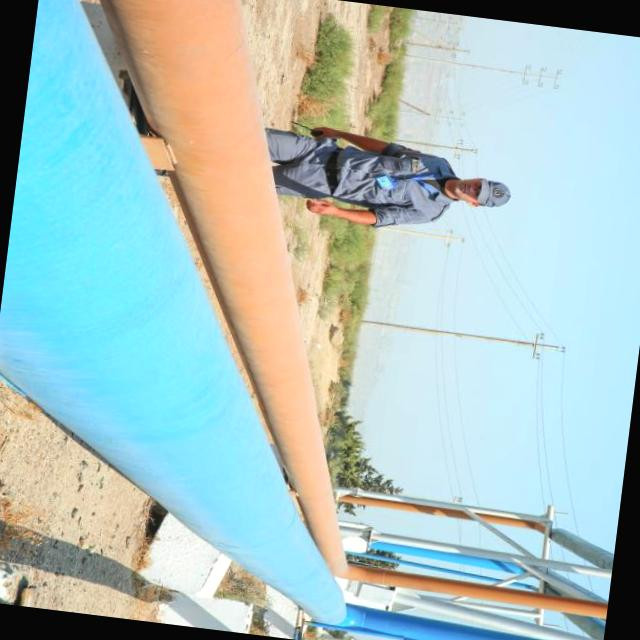gas: (0, 0, 345, 623), (102, 0, 345, 576)
